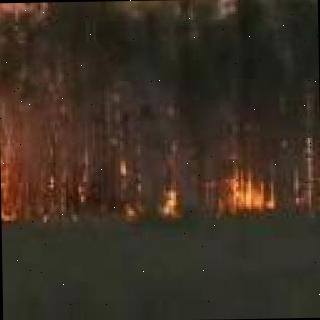fire: (117, 170, 185, 214), (226, 170, 280, 216), (0, 48, 2, 220)
